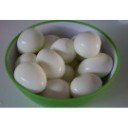begg: (15, 63, 46, 90), (70, 74, 100, 93), (17, 30, 44, 51), (74, 33, 99, 55)
